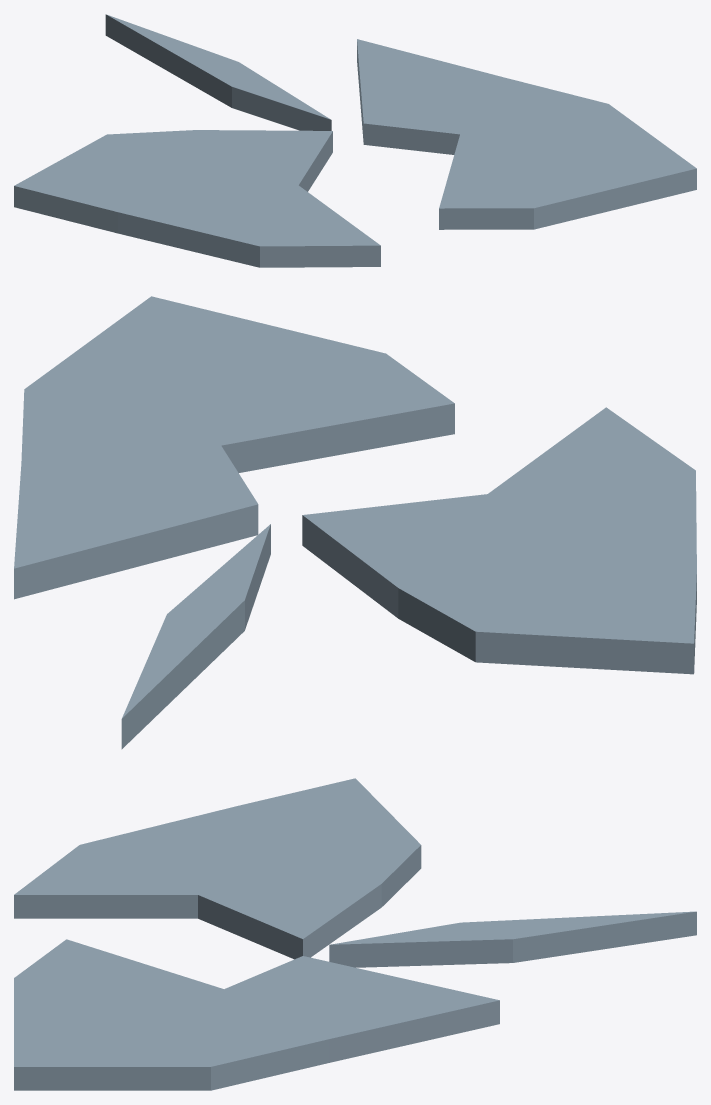
Rendered from inv_smashed_glass.obj.
The picture shows the model from 3 angles, top to bottom: view 1: azimuth 30°, elevation 25°; view 2: azimuth 150°, elevation 25°; view 3: azimuth 270°, elevation 25°; orthographic projection. The views are drawn at different scales.
Size of the model in its own units: 0.4062 by 0.0156 by 0.4062.
